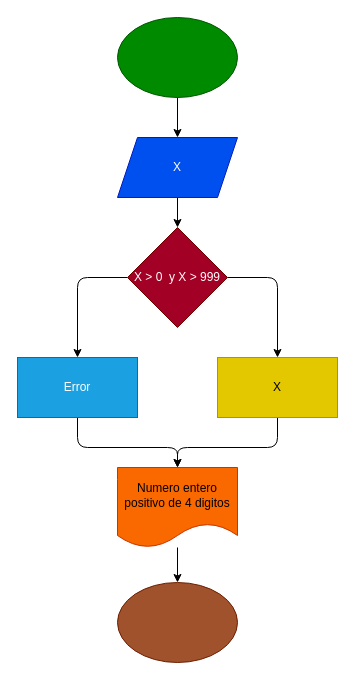
The diagram is 355 pixels wide and 680 high, and some of its shapes have lost their labels. The centre of each missing label's shape, as x and y in pixels:
"FIN" belongs at [177,622].
"INICIO" belongs at [177,57].
